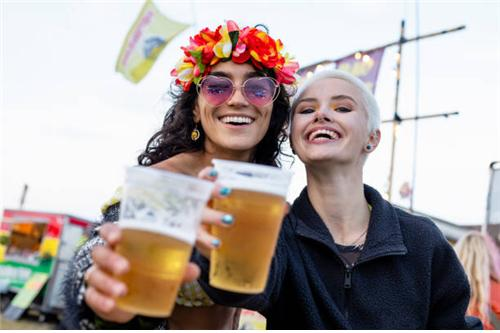alcohol: (111, 164, 212, 319), (207, 159, 289, 295)
